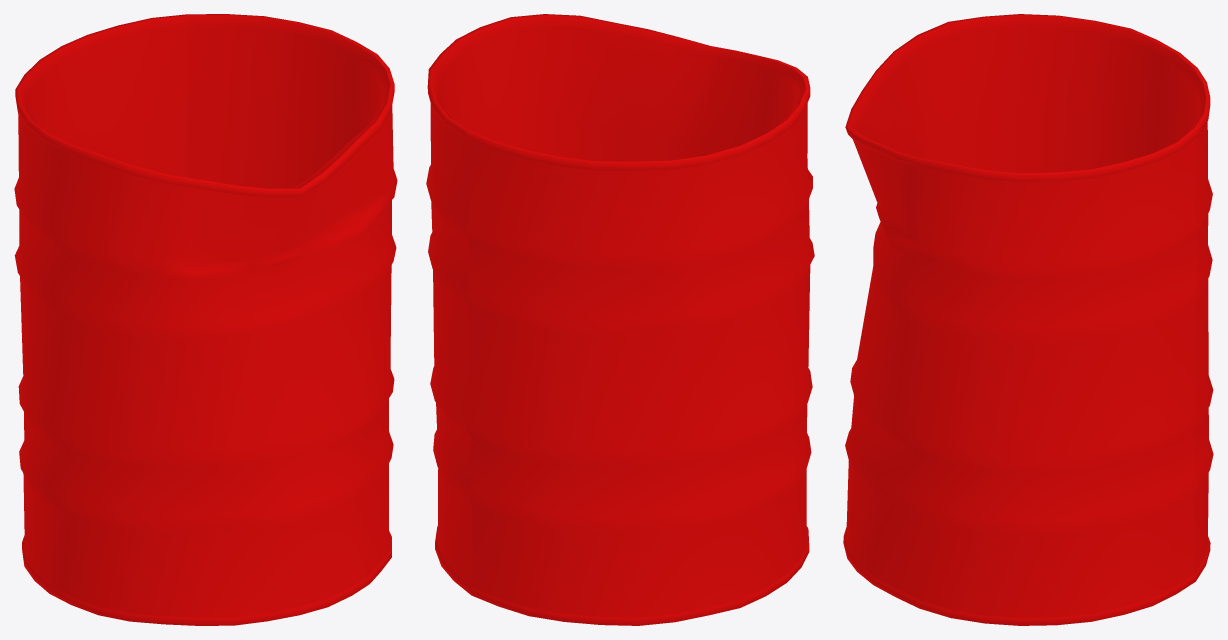
The model's file is SM_Barrel_05_Opened.glb.
3 renders of one model, left to right at view 1: azimuth 30°, elevation 25°; view 2: azimuth 150°, elevation 25°; view 3: azimuth 270°, elevation 25°, orthographic.
Visible parts, largest first — view 1: SM_Barrel_05_Opened_LOD0; view 2: SM_Barrel_05_Opened_LOD0; view 3: SM_Barrel_05_Opened_LOD0.
Boxes of the visible parts, x1,y1,x2,y2 form: SM_Barrel_05_Opened_LOD0: (14, 14, 397, 625); SM_Barrel_05_Opened_LOD0: (426, 14, 814, 625); SM_Barrel_05_Opened_LOD0: (843, 14, 1213, 625).
Size of the model in its own units: 0.3852 by 0.5076 by 0.3719.
